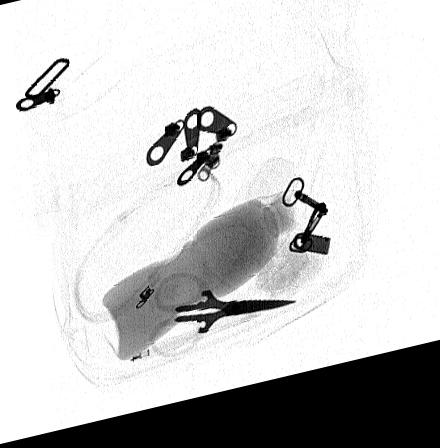Scissors: (145, 276, 301, 371)
